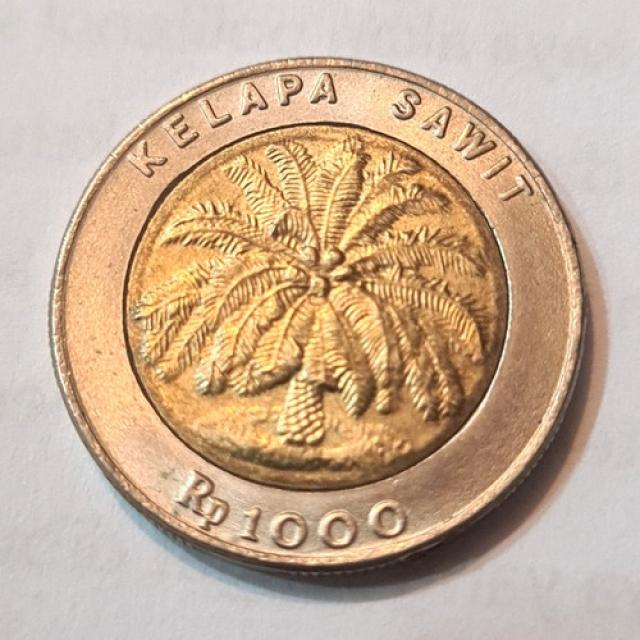1000-sawit: (44, 49, 616, 567)
